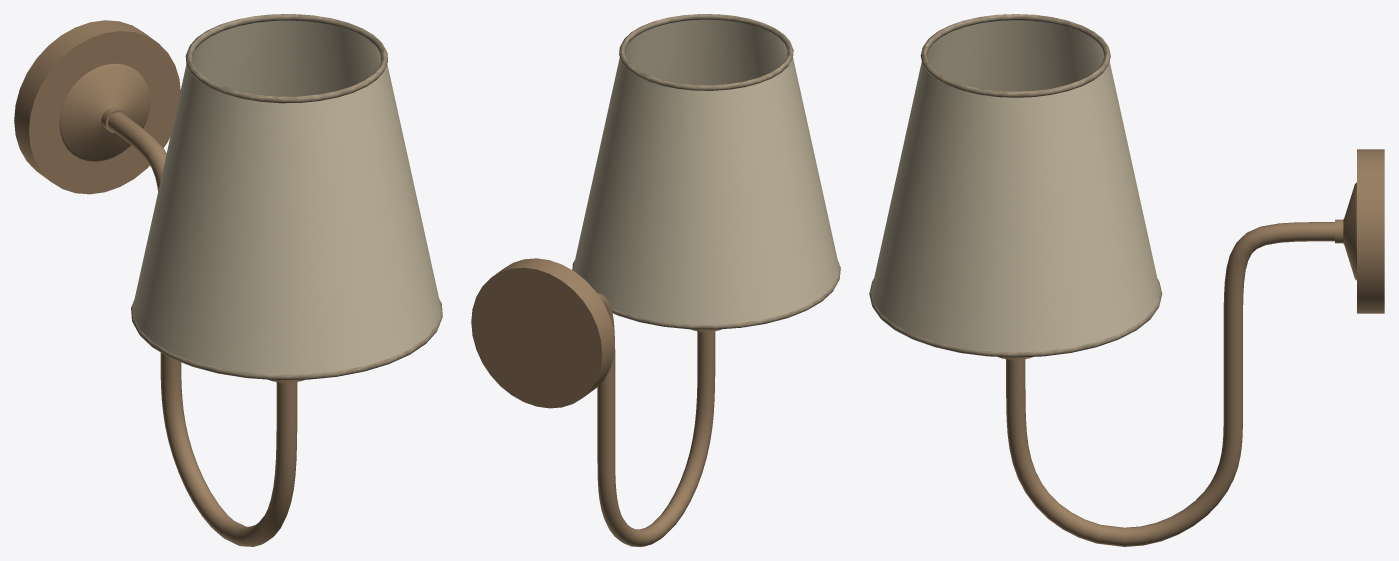
Rendered from Wall Lamp.fbx.
3 views of the same model, side by side, from view 1: azimuth 30°, elevation 25°; view 2: azimuth 150°, elevation 25°; view 3: azimuth 270°, elevation 25° (orthographic). The views are drawn at different scales.
Parts seen in each view (by area): view 1: Wall Lamp; view 2: Wall Lamp; view 3: Wall Lamp.
Part boxes in pixels (box(x1,y1,x2,y2)): Wall Lamp: box(14, 14, 442, 546); Wall Lamp: box(471, 14, 840, 546); Wall Lamp: box(869, 14, 1384, 546).
Bounding box in the file's own units: 15.86 × 29.46 × 27.91.
